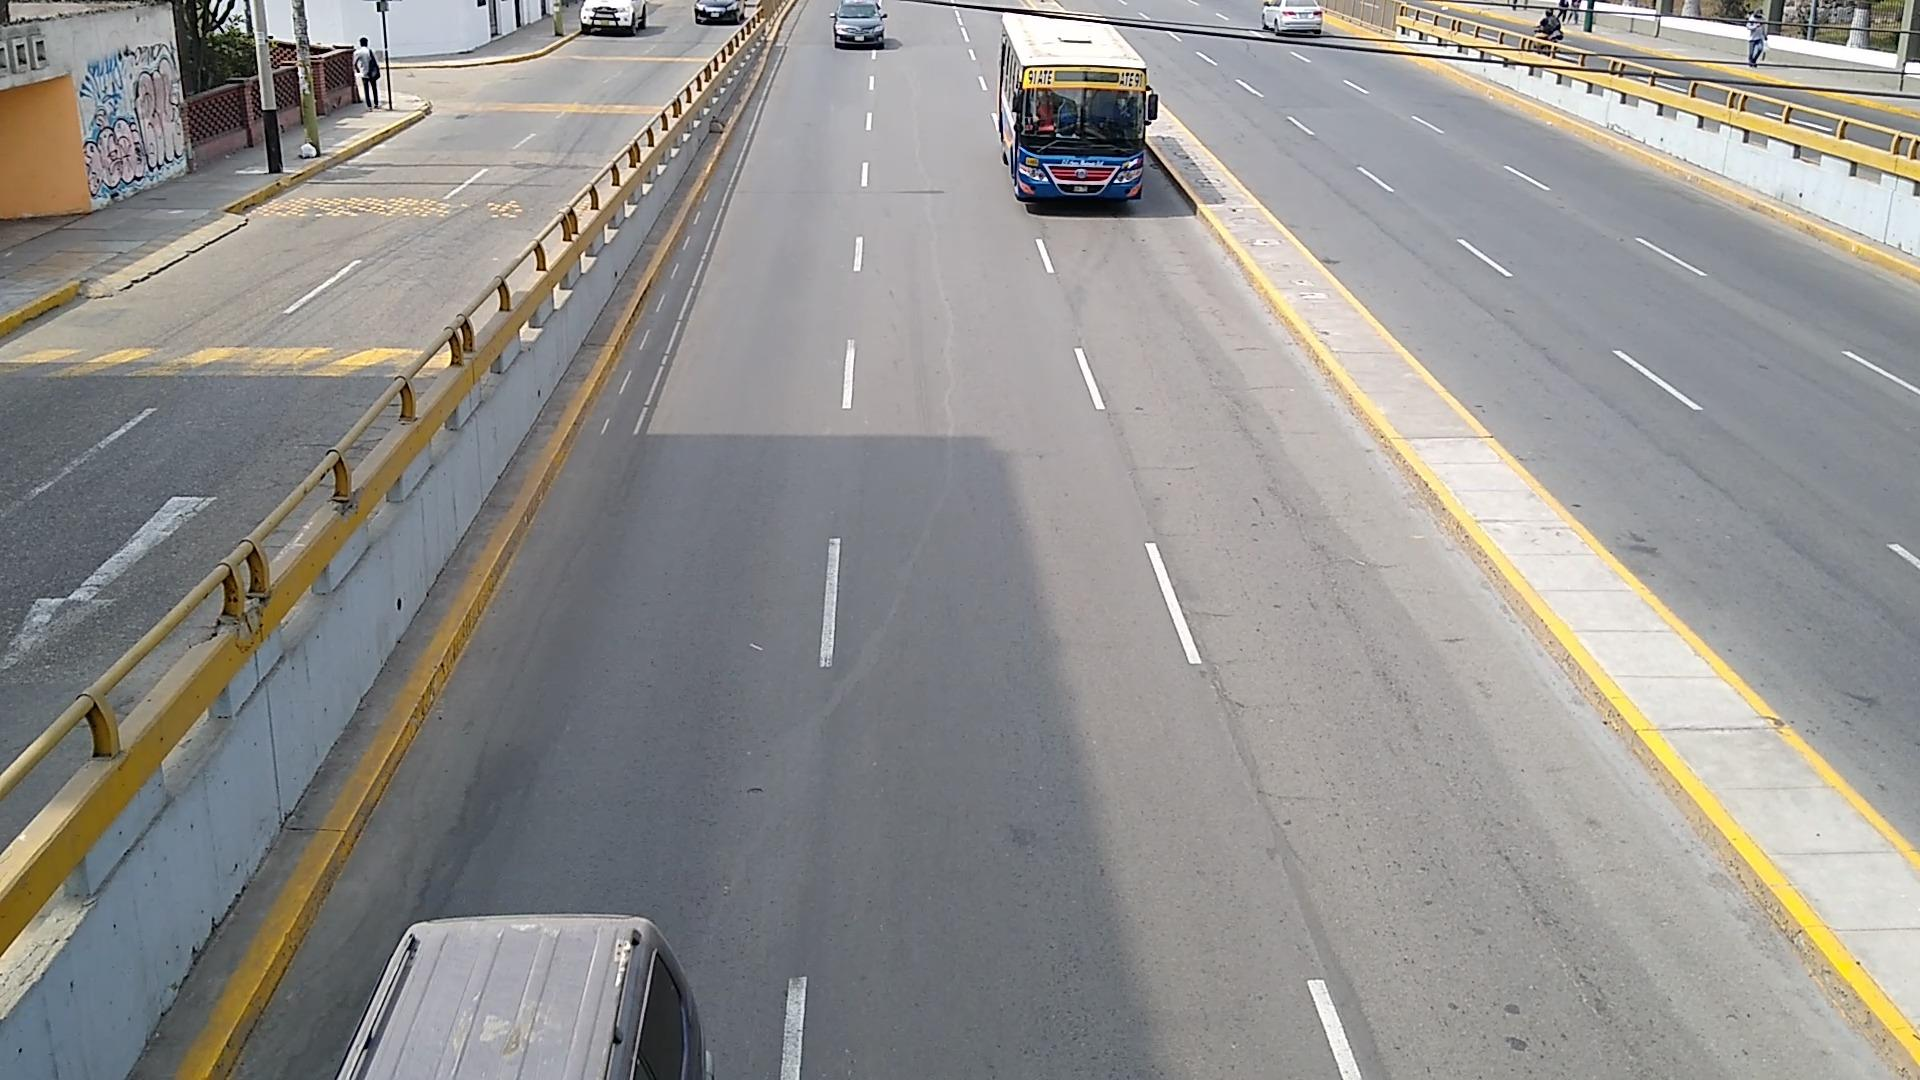bus: (994, 12, 1159, 203)
car: (832, 0, 889, 49), (582, 0, 649, 34), (1261, 0, 1324, 36)
